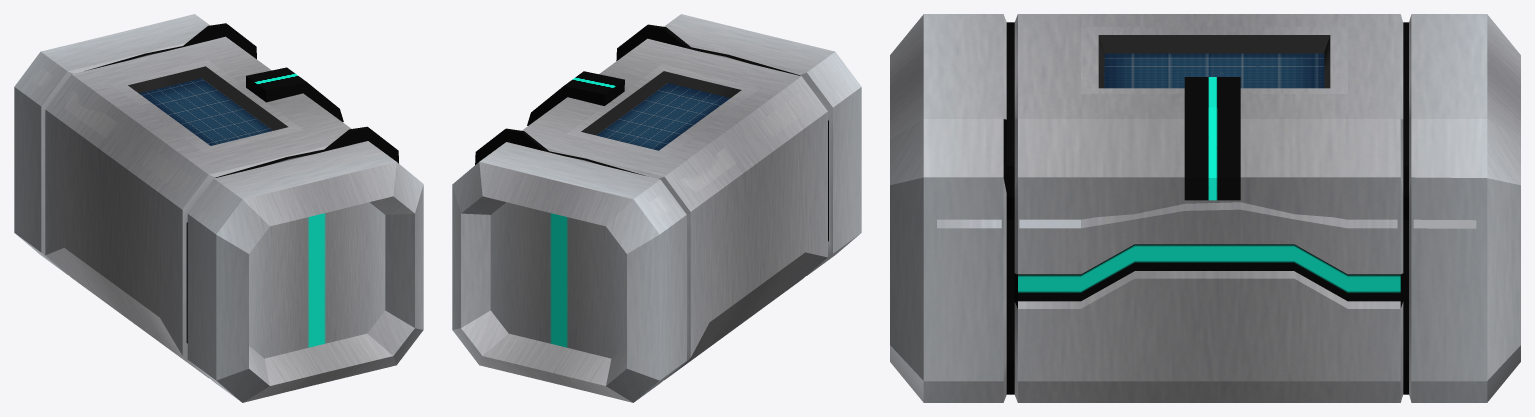
File: AmmoCrate.fbx
3 views of the same model, side by side, from view 1: azimuth 30°, elevation 25°; view 2: azimuth 150°, elevation 25°; view 3: azimuth 270°, elevation 25° (orthographic). The views are drawn at different scales.
Parts seen in each view (by area): view 1: polySurface1; view 2: polySurface1; view 3: polySurface1.
Part boxes in pixels (x1,y1,x2,y2): polySurface1: (14, 14, 423, 402); polySurface1: (452, 14, 861, 402); polySurface1: (890, 14, 1520, 402).
Bounding box in the file's own units: 49.11 × 45.8 × 86.98.
